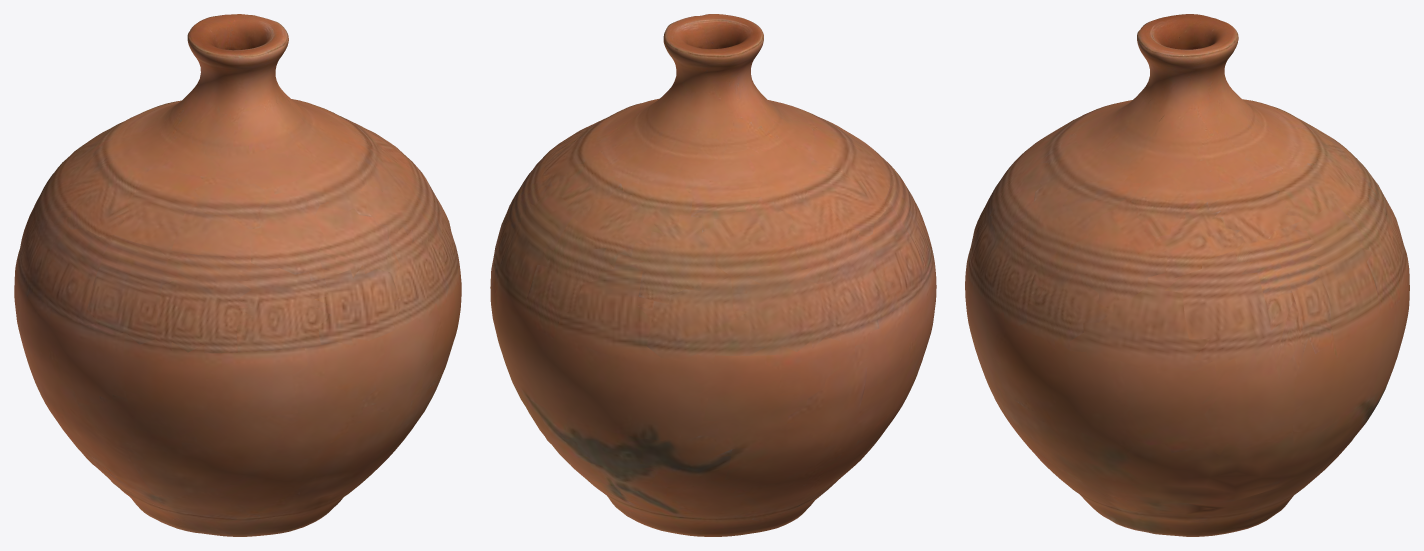
File: jug.glb
The picture shows the model from 3 angles, left to right: view 1: azimuth 30°, elevation 25°; view 2: azimuth 150°, elevation 25°; view 3: azimuth 270°, elevation 25°; orthographic projection.
Parts seen in each view (by area): view 1: input; view 2: input; view 3: input.
Part boxes in pixels (x1,y1,x2,y2): input: (14,14,461,536); input: (490,14,936,536); input: (965,14,1409,536).
Size of the model in its own units: 1.75 by 2 by 1.75.
Materials: 1 (1 with a texture image).
